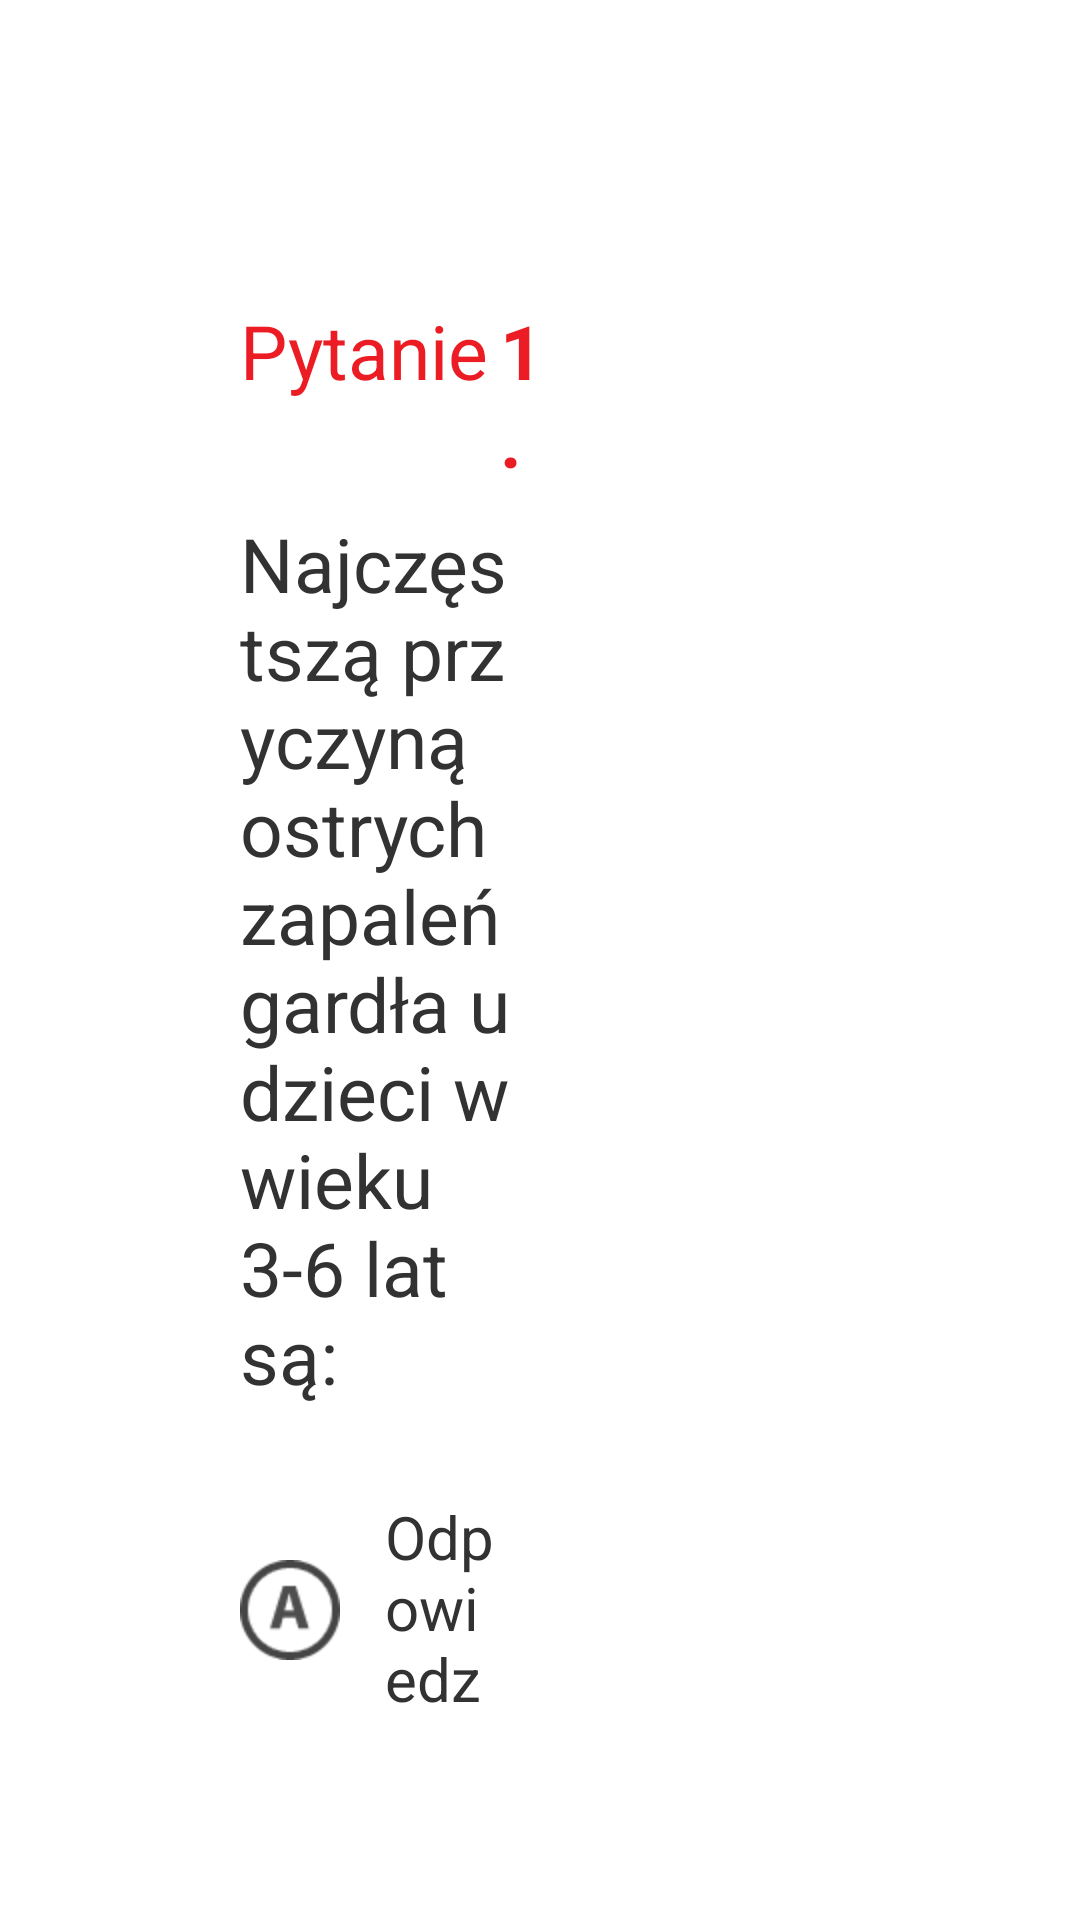

Named icons in this screenshot (1080×1920) and their centers, (x=x, y=y):
ans: (x=290, y=1610)
